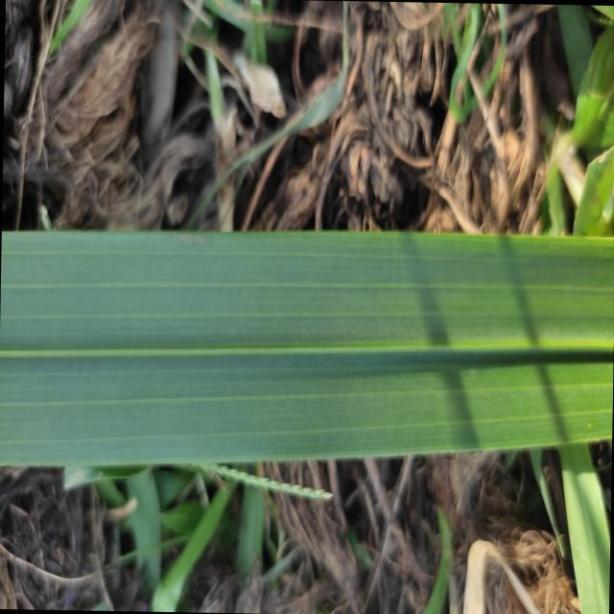Healthy: (0, 227, 614, 467)
